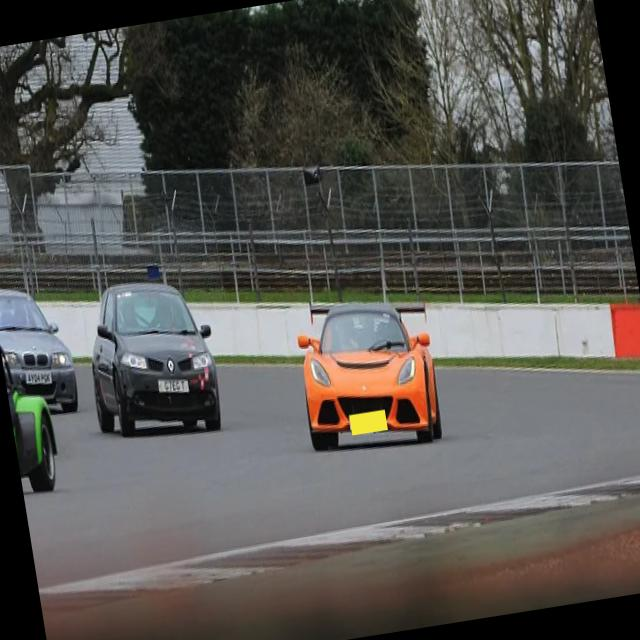LicensePlate: (349, 409, 388, 435), (158, 379, 188, 393), (25, 370, 51, 385)
